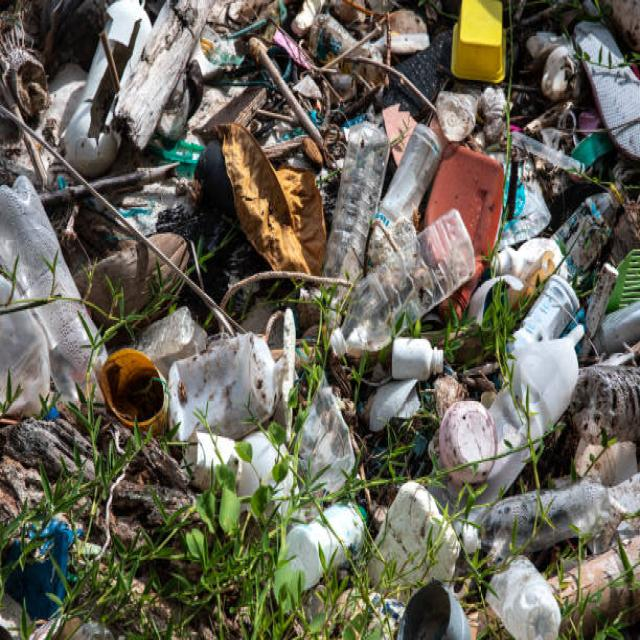plastic: (170, 425, 630, 593), (325, 128, 474, 382)
